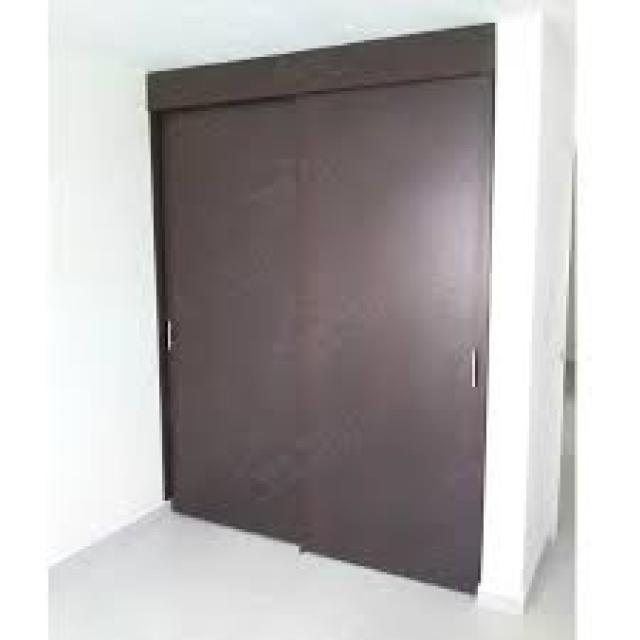door: (146, 27, 496, 596)
